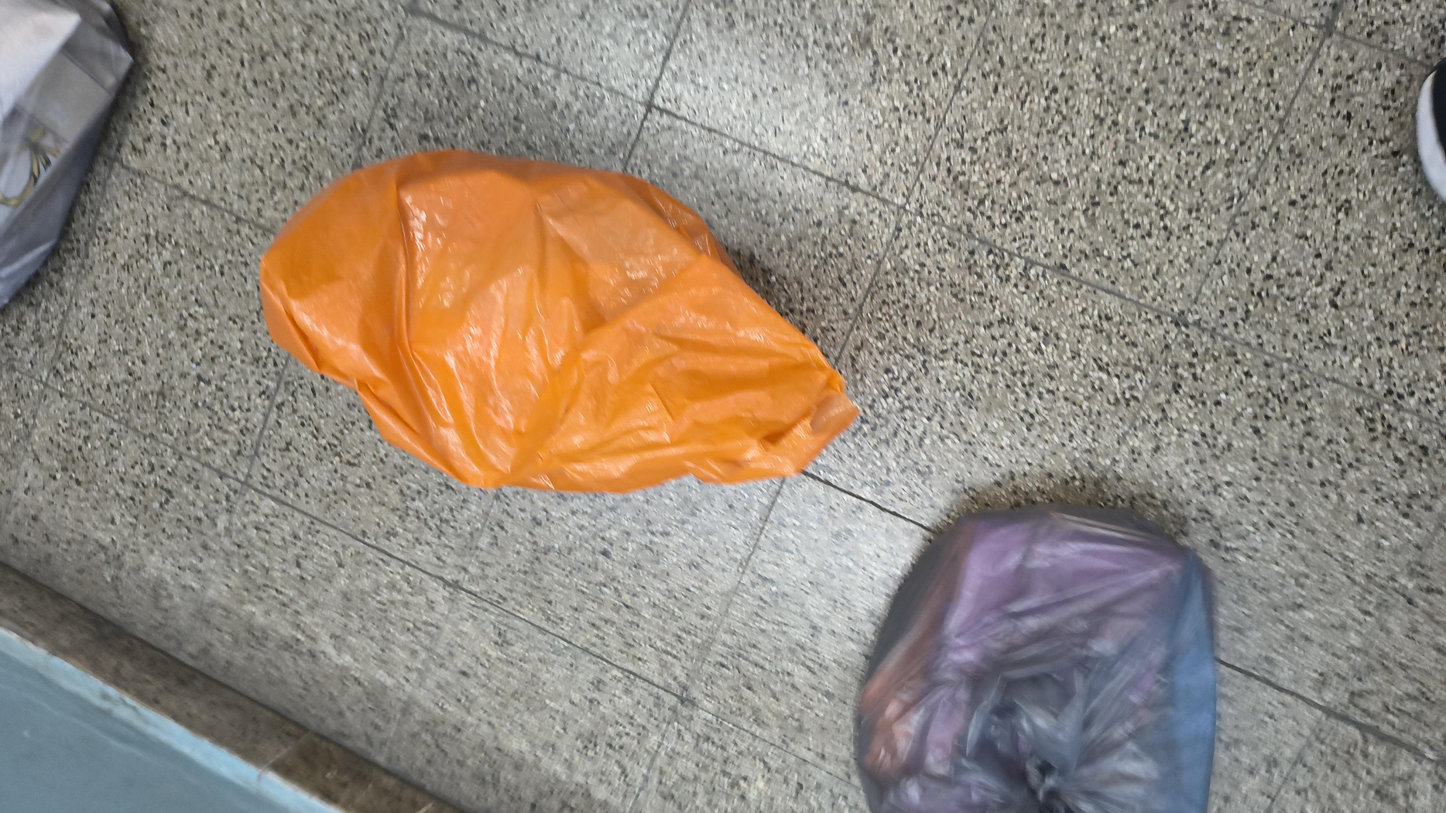Garbage: (590, 307, 1216, 700), (171, 0, 639, 323)
